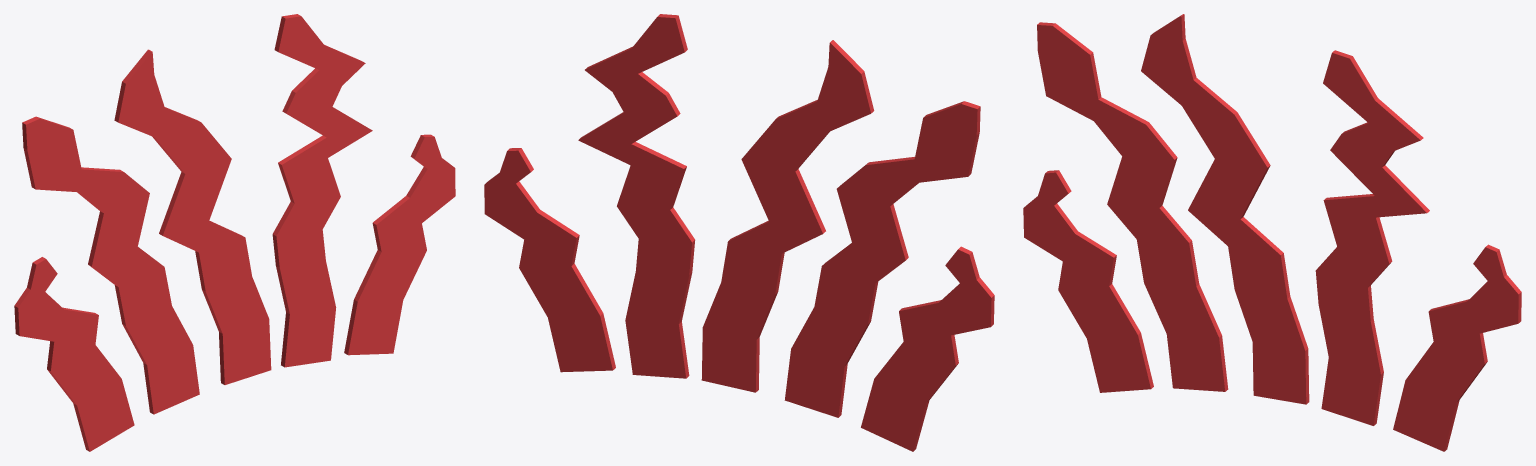
The picture shows the model from 3 angles, left to right: view 1: azimuth 30°, elevation 25°; view 2: azimuth 150°, elevation 25°; view 3: azimuth 330°, elevation 25°; orthographic projection. The views are drawn at different scales.
Parts seen in each view (by area): view 1: Plane.007; view 2: Plane.007; view 3: Plane.007.
Boxes of the visible parts, x1,y1,x2,y2 form: Plane.007: (14, 14, 455, 451); Plane.007: (484, 14, 994, 451); Plane.007: (1023, 14, 1521, 451).
Bounding box in the file's own units: 1.07 × 0.838 × 0.1046.
